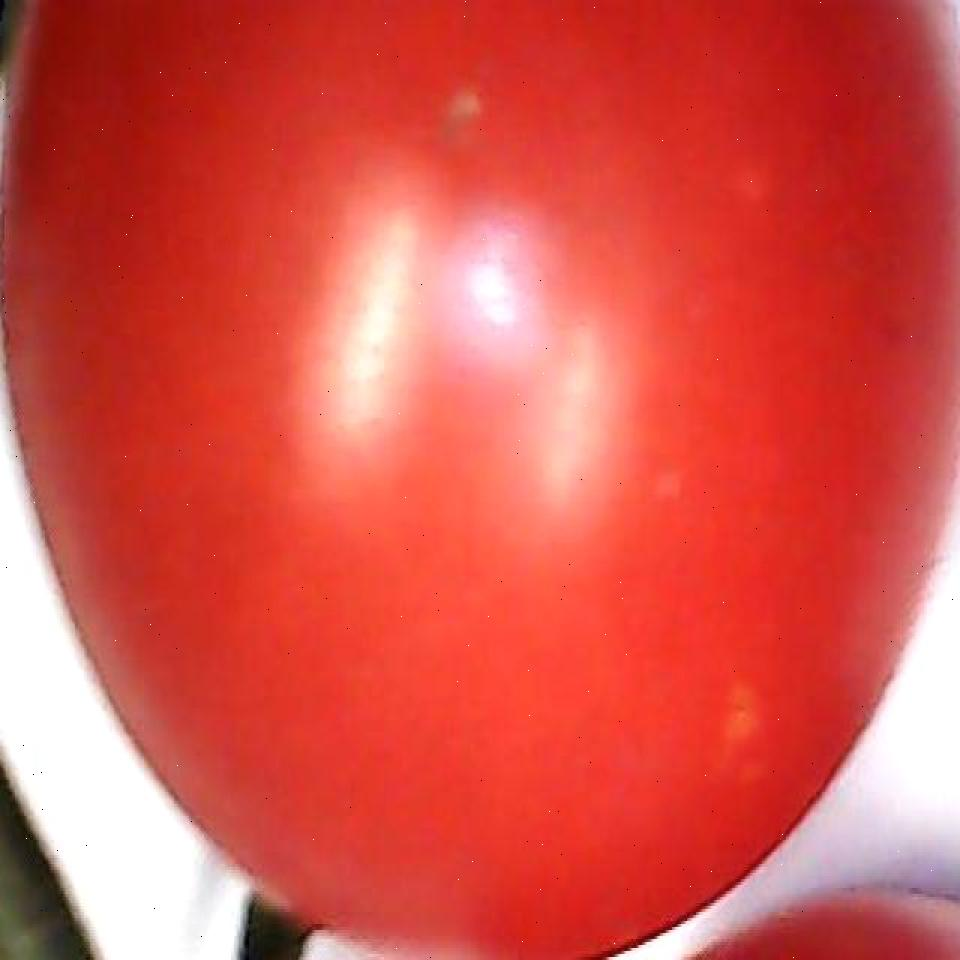Healthy: (0, 0, 934, 950)
